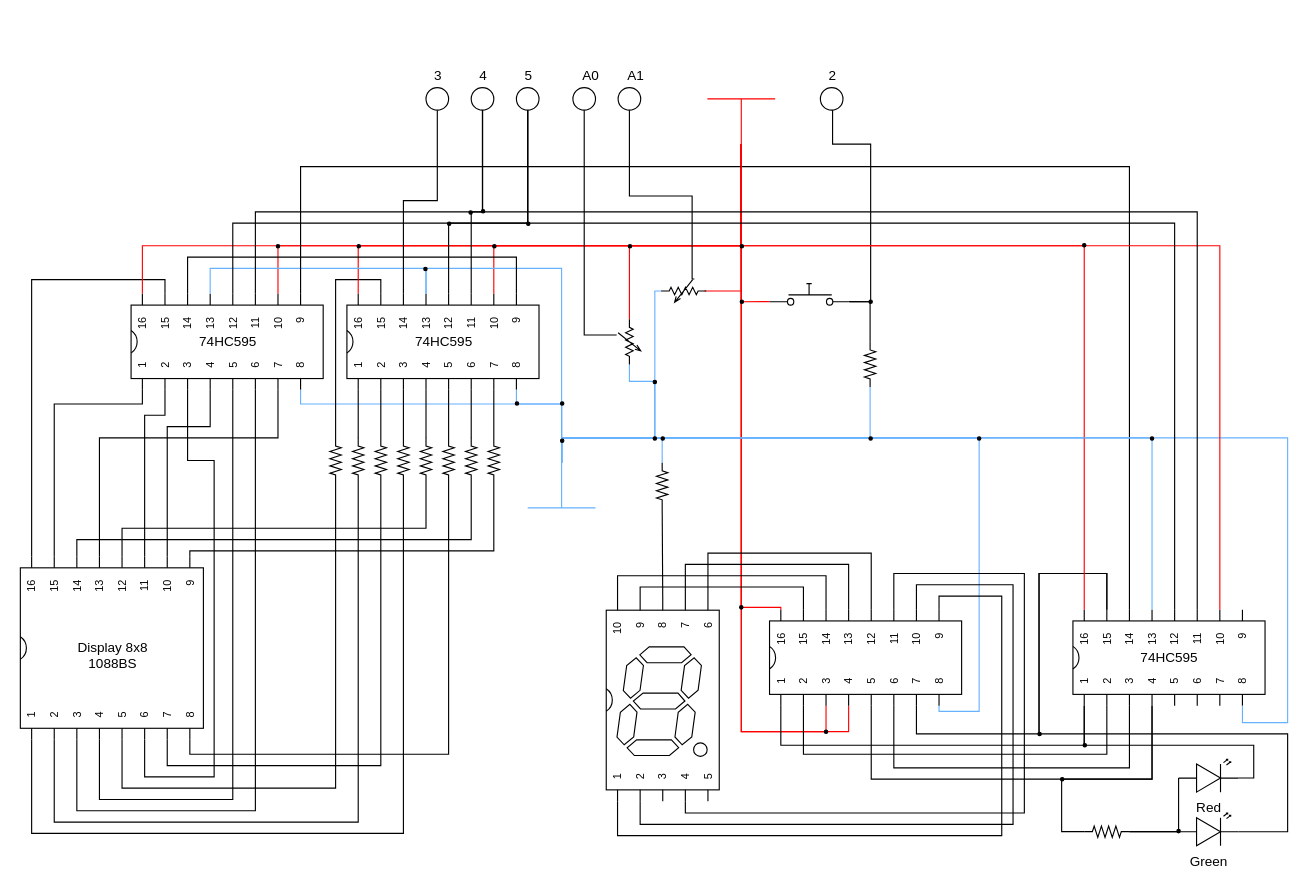
Some shapes in this 1309 by 888 pixel diagram are drawn without their labels. The box of each missing label's shape, as (x1, y1, x2, y2) in pixels:
CD4511: (768, 609, 962, 706)
GND: (527, 462, 596, 508)
V dd: (706, 98, 775, 144)
